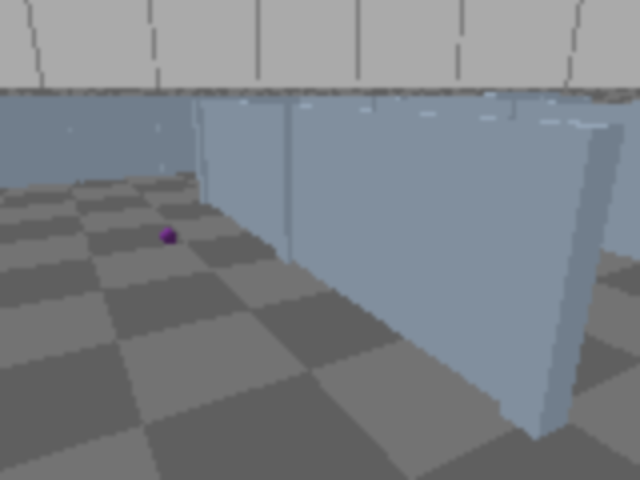puck: (156, 227, 180, 248)
